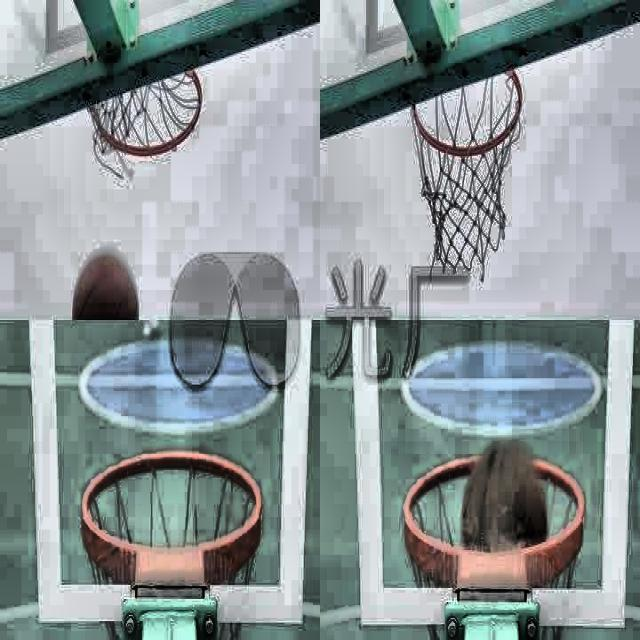rim: (412, 69, 522, 267)
